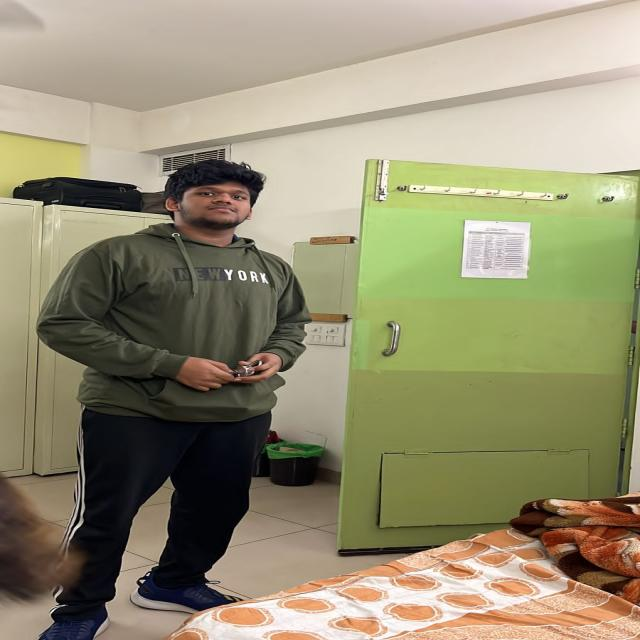Animals: (48, 144, 338, 462)
Others: (360, 166, 621, 529)
